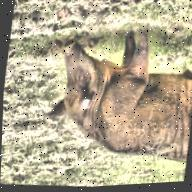boar: (32, 0, 192, 177)
